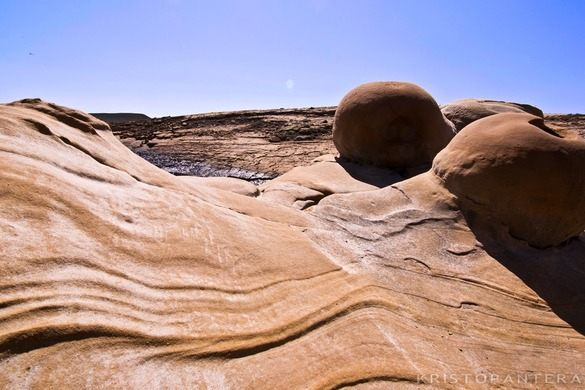volcanic_rock: (1, 255, 479, 388), (1, 210, 419, 351), (4, 160, 213, 390)
